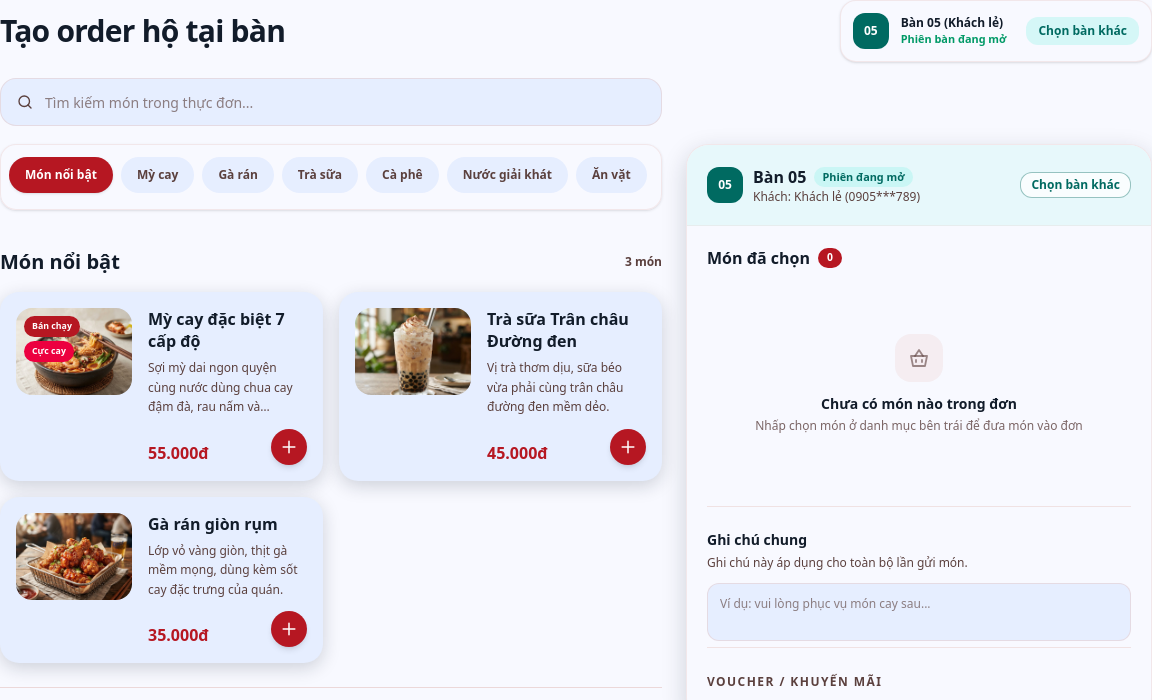
OperatorOrderCreationView › asks for confirmation before opening an empty table session
The width and height of the screenshot is (1152, 700).
Click the button "Chọn bàn khác" next to "Phiên bàn đang mở": {"x": 1083, "y": 31} top-left (1026, 17), bottom-right (1139, 45)
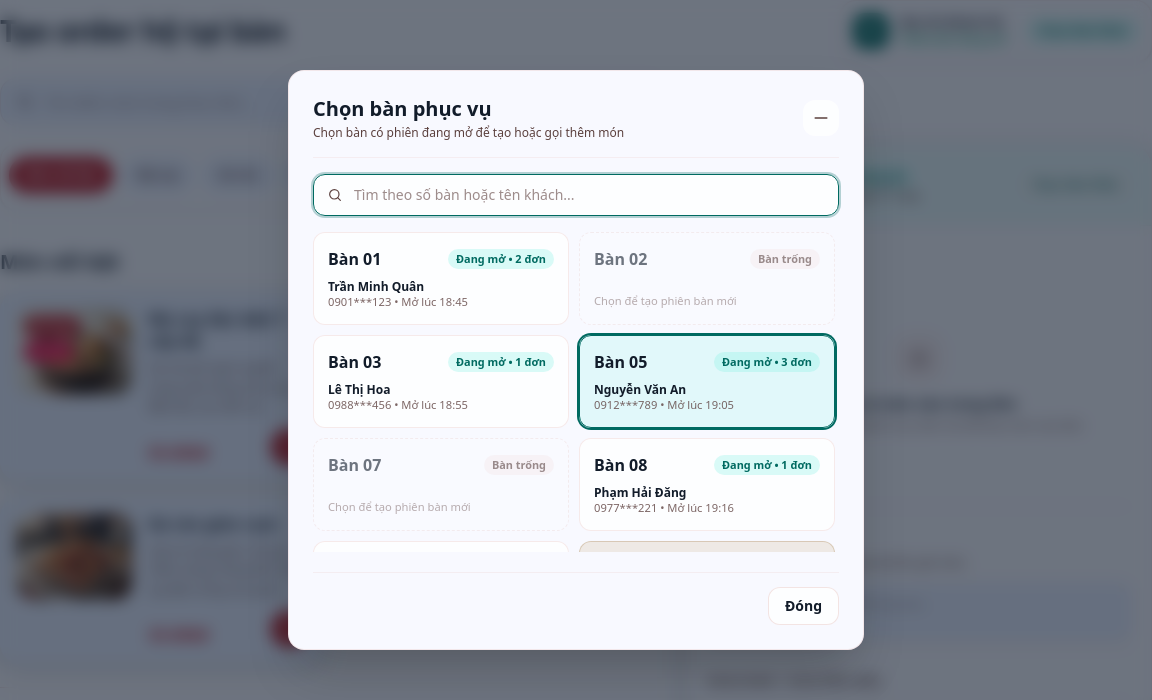
Click the button "Bàn 02 Bàn trống Chọn để tạo phiên bàn mới": {"x": 707, "y": 278} top-left (579, 232), bottom-right (835, 325)
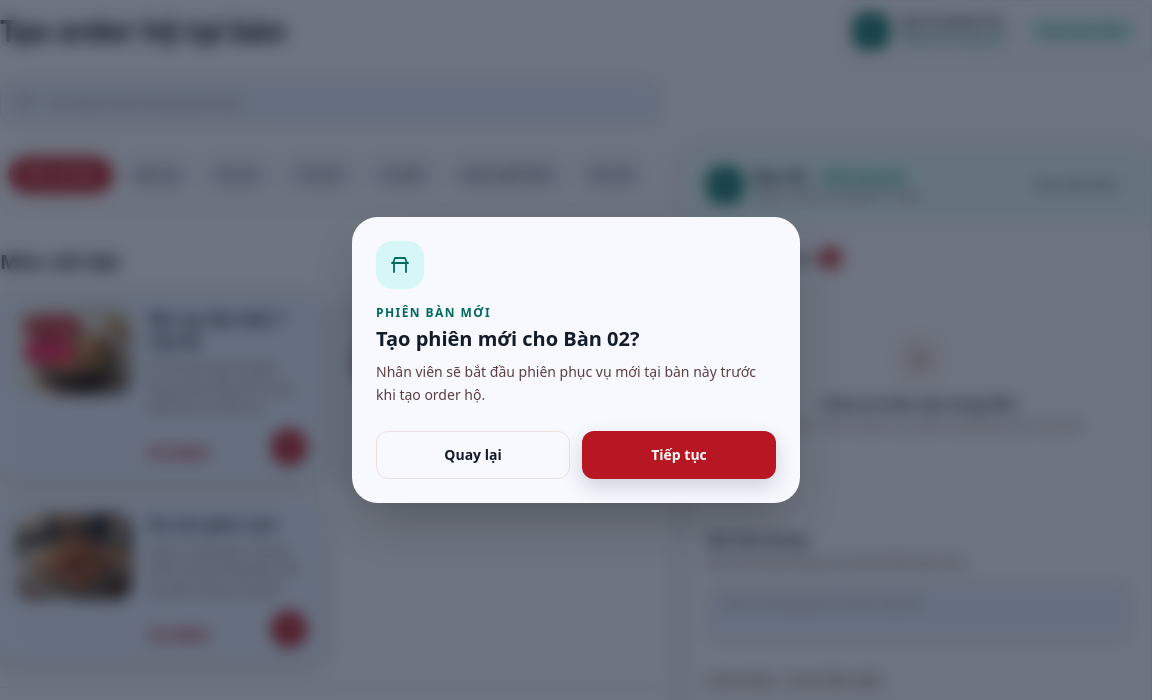
Check: the heading "Tạo phiên mới cho Bàn 02?" is shown, box top-left (376, 325), bottom-right (640, 352)
Click the button "Tiếp tục": {"x": 679, "y": 455} top-left (582, 431), bottom-right (776, 479)
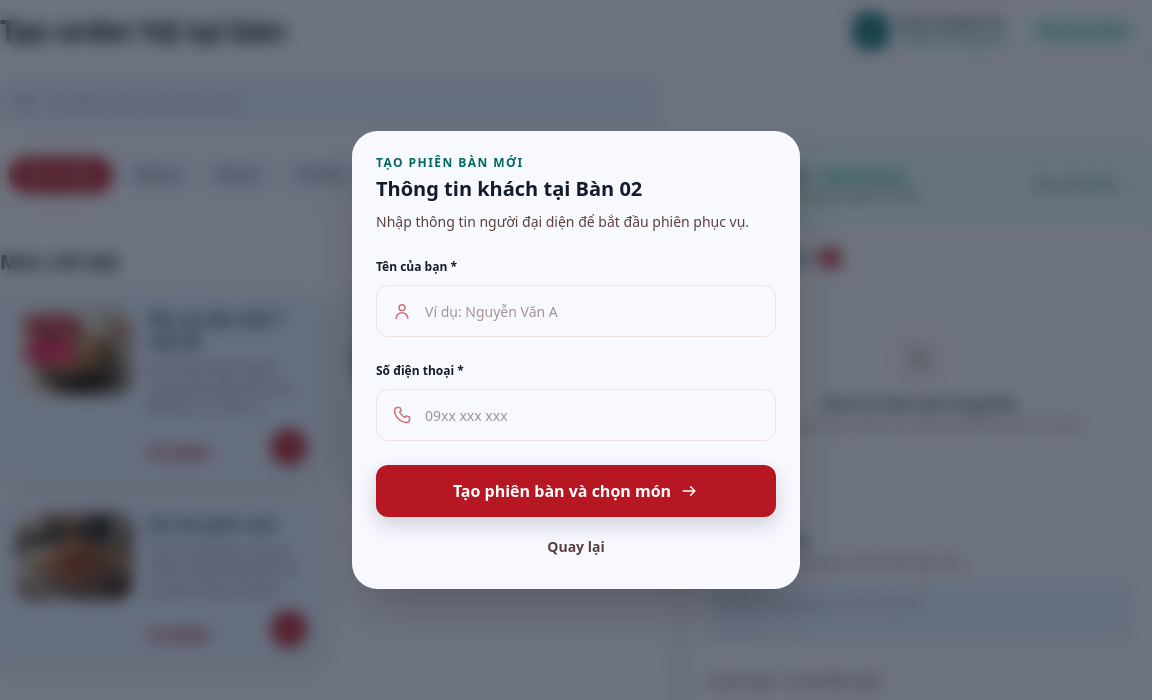
Check: the heading "Thông tin khách tại Bàn 02" is shown, box top-left (376, 175), bottom-right (642, 202)
In the field labelled "Tên của bạn *": {"x": 576, "y": 311} top-left (376, 285), bottom-right (776, 337), type "Nguyễn Văn A"
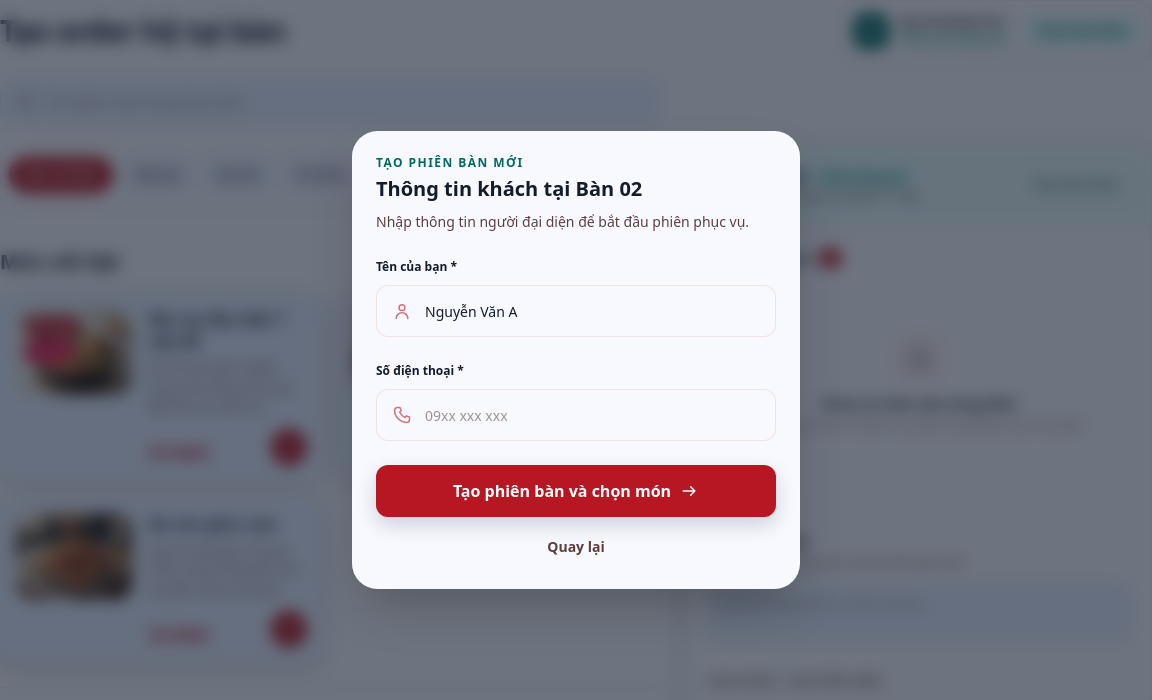
In the field labelled "Số điện thoại *": {"x": 576, "y": 415} top-left (376, 389), bottom-right (776, 441), type "0901234567"
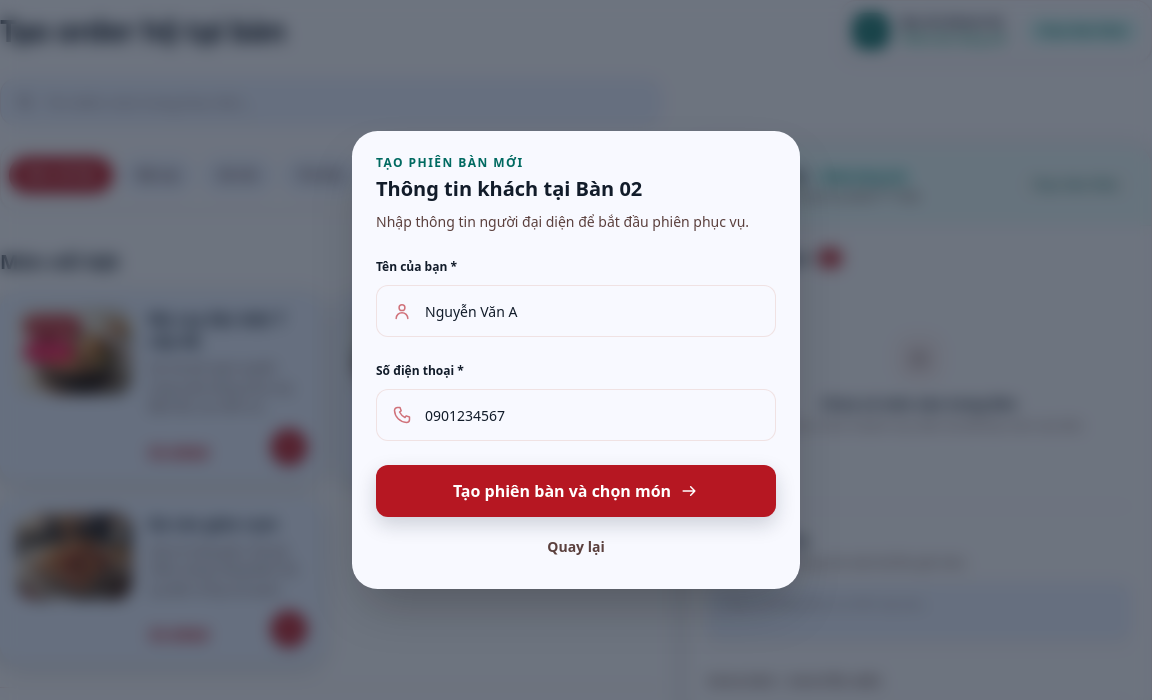
Click the button "Tạo phiên bàn và chọn món": {"x": 576, "y": 491} top-left (376, 465), bottom-right (776, 517)
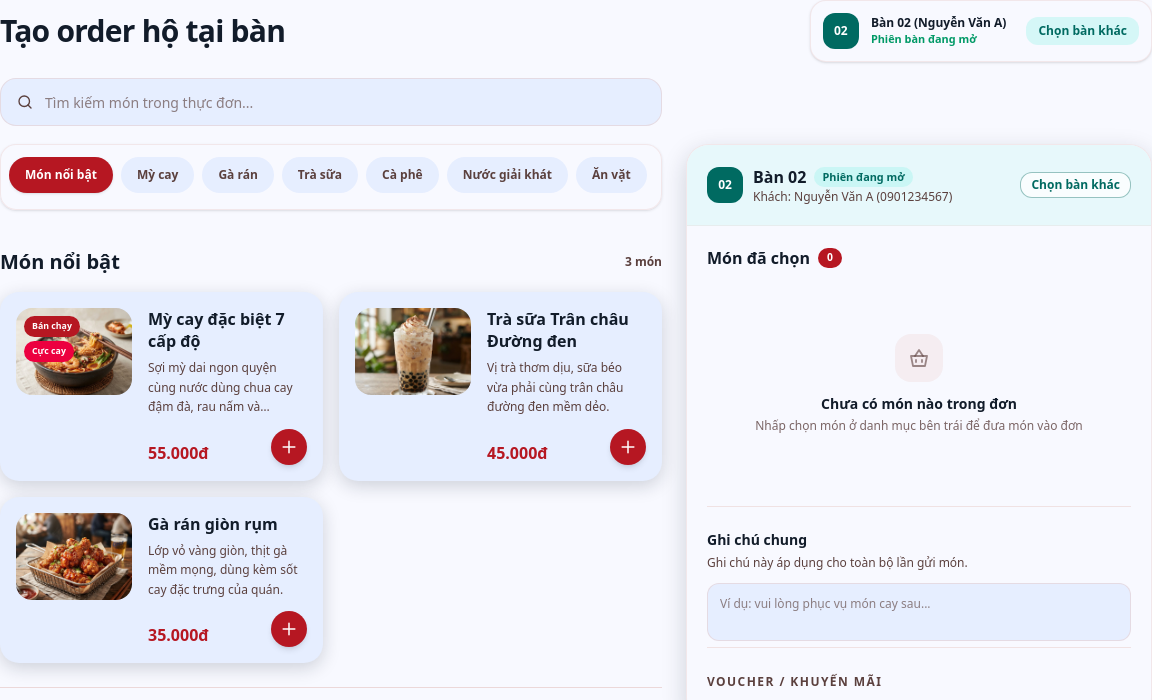
Check: the text "Bàn 02 (Nguyễn Văn A)" is shown, box top-left (871, 15), bottom-right (1006, 31)
